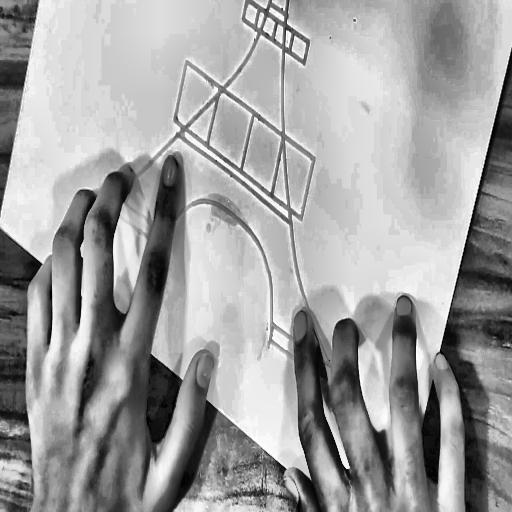eiffel-tower: (59, 0, 446, 409)
